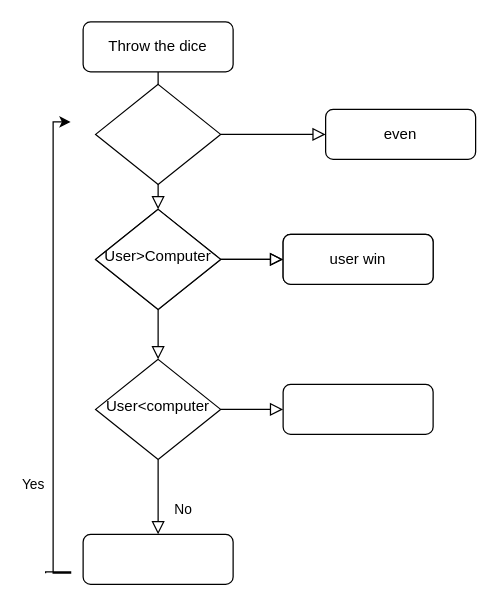
Image size: 498x606. Some labels were removed from this diagram. Here are the shapes that lost their labels. From the top down, the box of each, then its label:
(94, 83, 221, 184): User=Computer
(282, 383, 433, 434): computer win
(82, 533, 233, 584): Do you want to continue to play?
